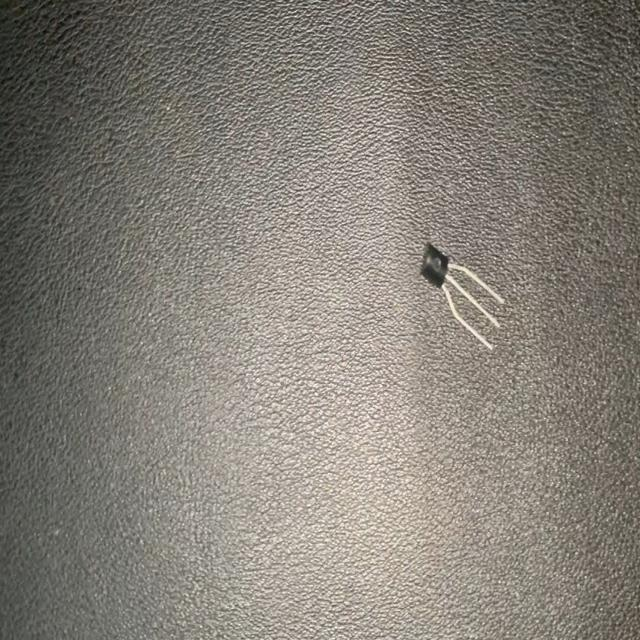BJT: (418, 236, 508, 356)
